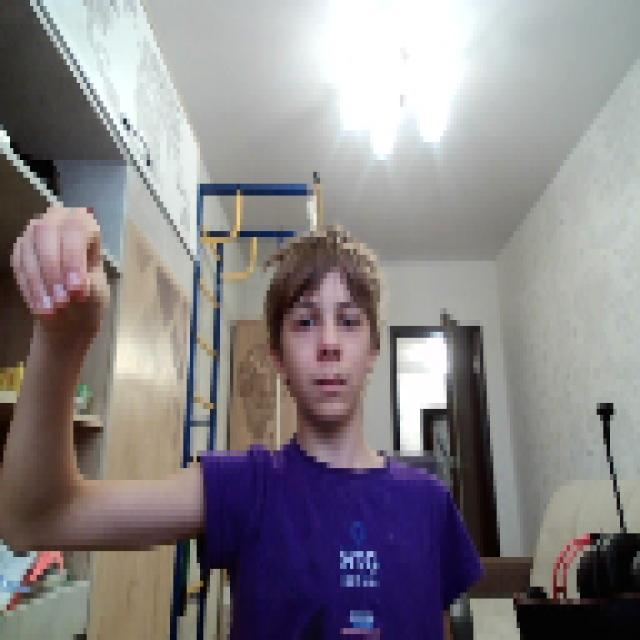left_click: (7, 196, 106, 314)
